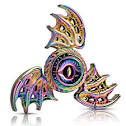fidget_spinner: (1, 2, 122, 119)
